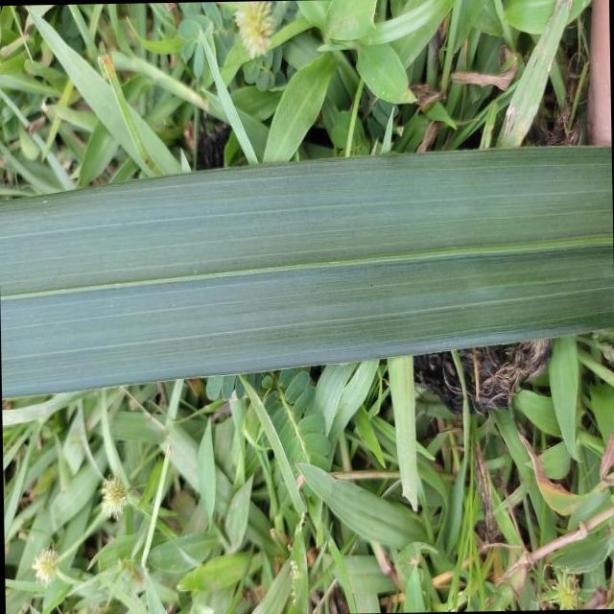Healthy: (0, 150, 614, 393)
